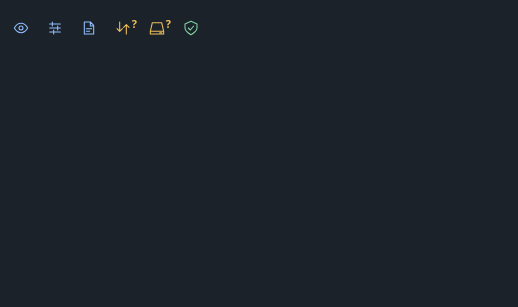
it: stale capacity shows the retained numbers and the last successful reading
Hover over the button named "Remote capacity" at (157, 28), box top-left (141, 12), bottom-right (173, 44)
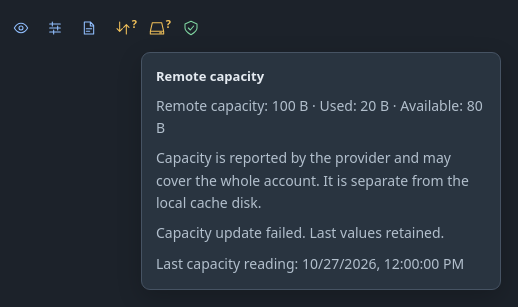
Result: the text "Remote capacity: 100 B · Used: 20 B · Available: 80 B" is shown at top-left (156, 94), bottom-right (486, 139)
Result: the text "Capacity update failed. Last values retained." is shown at top-left (156, 222), bottom-right (486, 245)
Result: the text "Last capacity reading: 10/27/2026, 12:00:00 PM" is shown at top-left (156, 253), bottom-right (486, 275)
